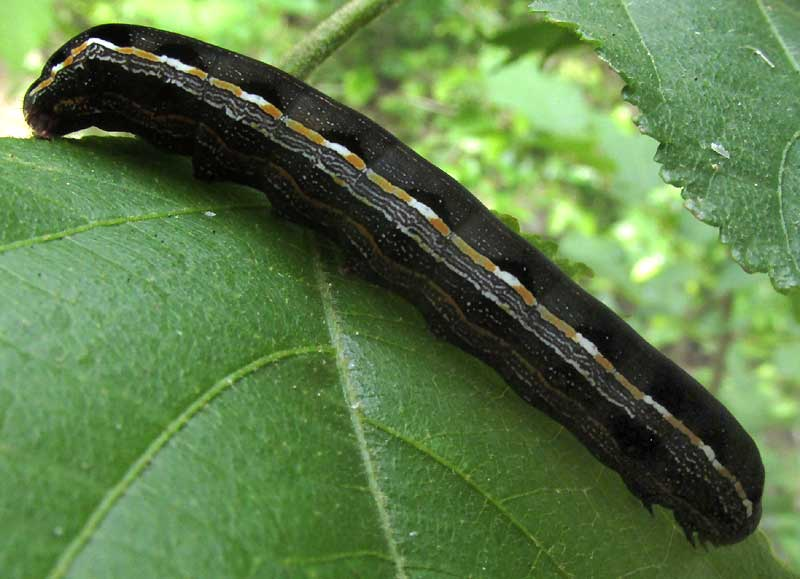Armyworm: (21, 18, 779, 548)
